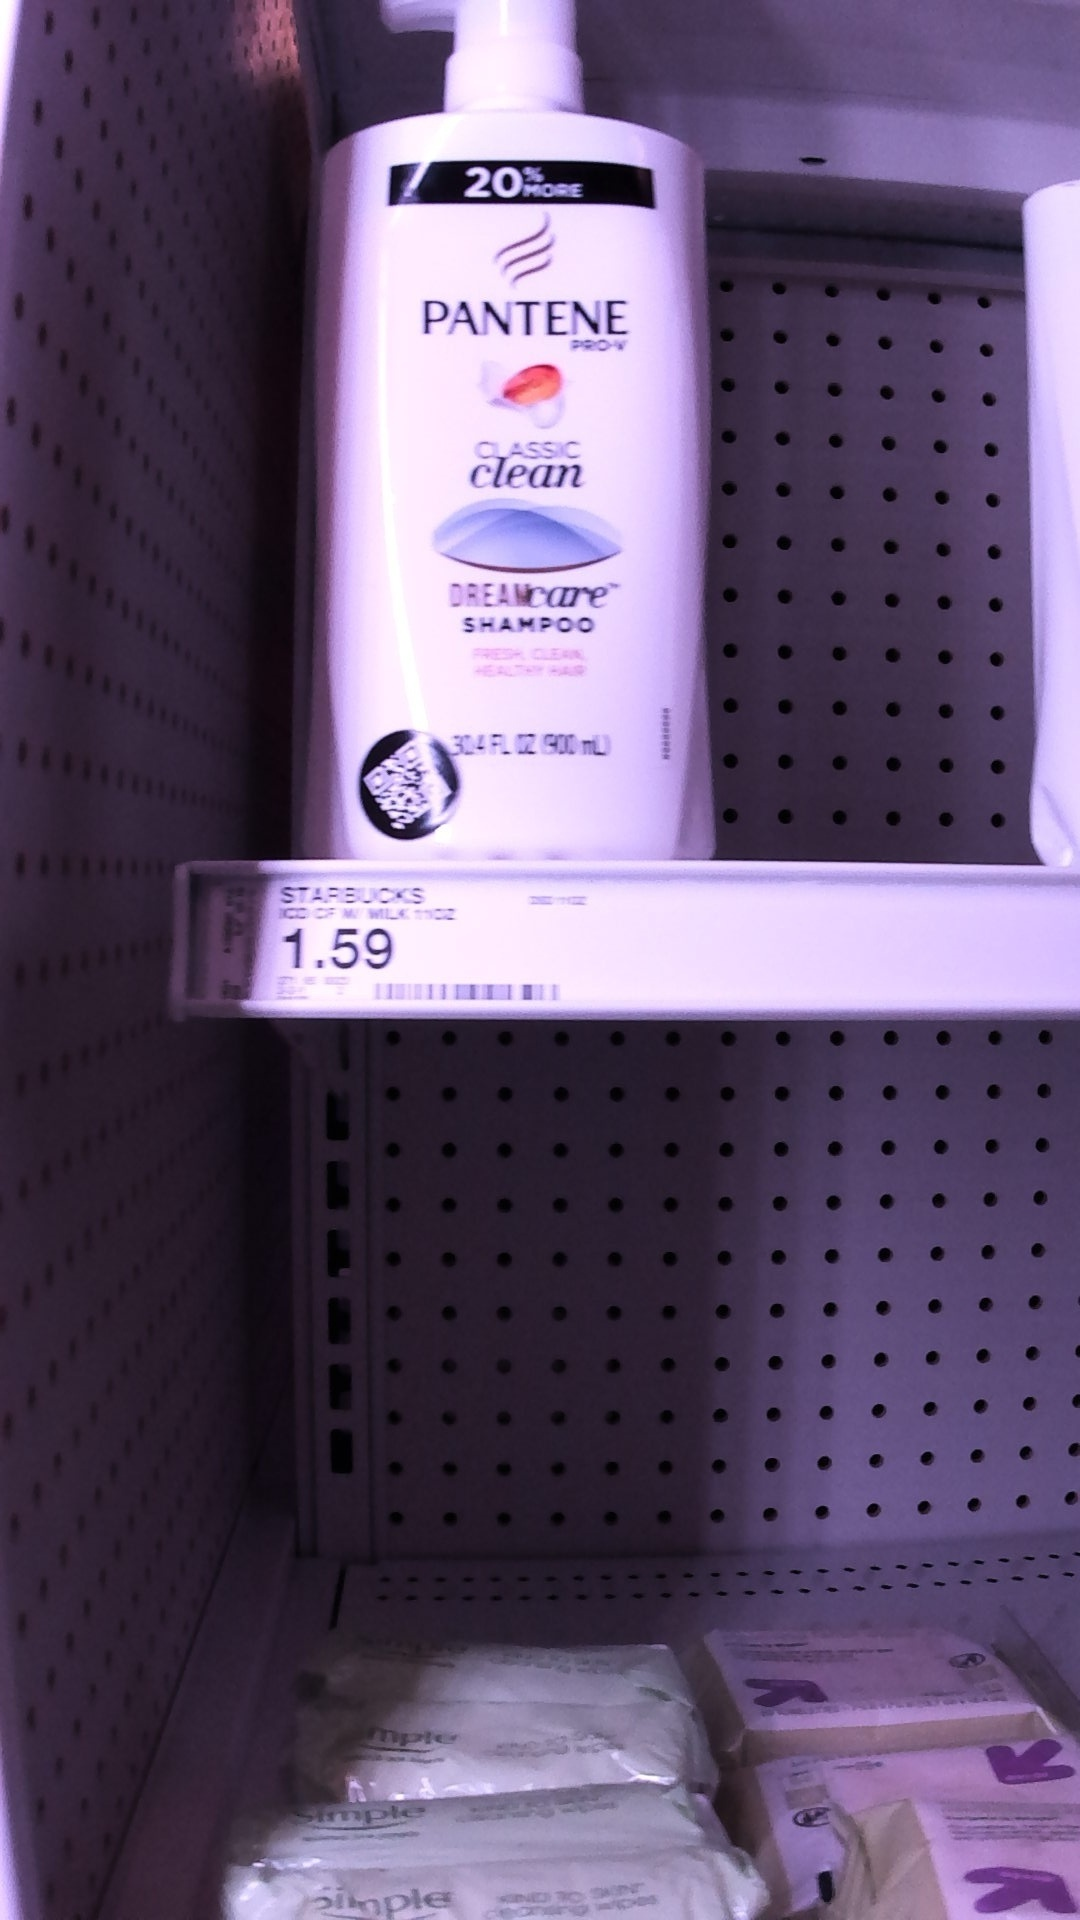ptag: (171, 862, 618, 1022)
